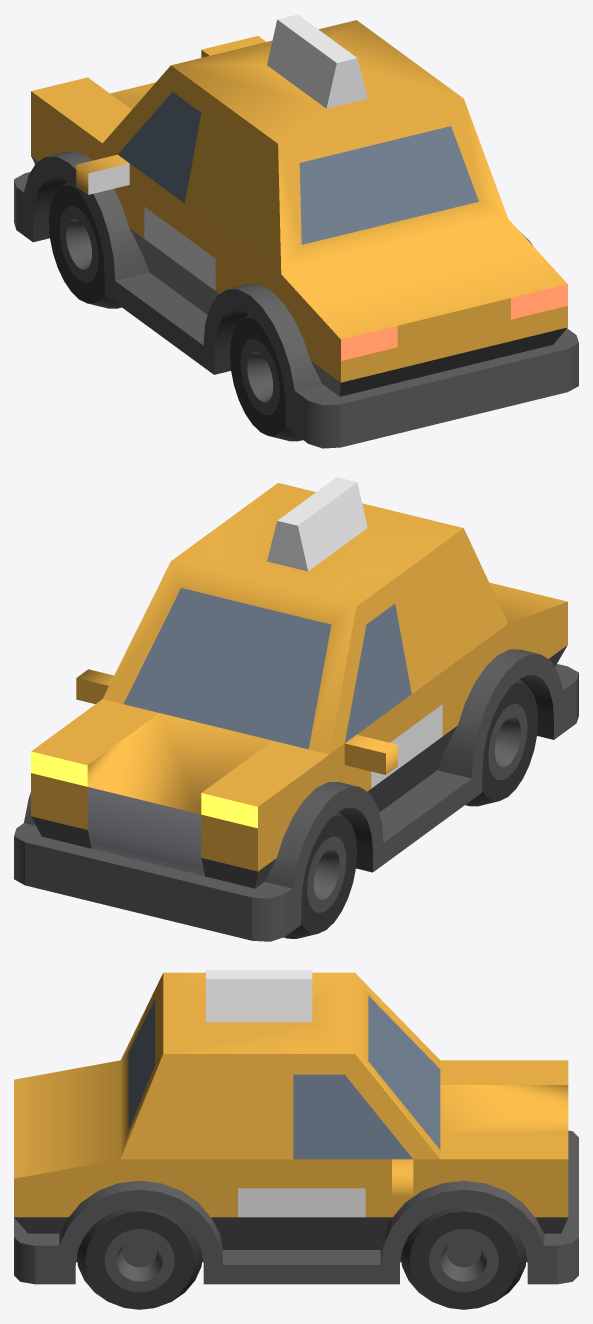
The model's file is taxi.glb.
3 renders of one model, top to bottom at view 1: azimuth 30°, elevation 25°; view 2: azimuth 150°, elevation 25°; view 3: azimuth 270°, elevation 25°, orthographic. The views are drawn at different scales.
Parts seen in each view (by area): view 1: body, wheel_backLeft, wheel_frontLeft; view 2: body, wheel_backLeft, wheel_frontLeft; view 3: body, wheel_backRight, wheel_frontRight.
Part boxes in pixels (bbox=[...]): body: bbox=[14, 14, 578, 448]; wheel_backLeft: bbox=[230, 314, 302, 441]; wheel_frontLeft: bbox=[48, 181, 121, 308]; body: bbox=[14, 477, 578, 941]; wheel_backLeft: bbox=[465, 679, 538, 806]; wheel_frontLeft: bbox=[284, 811, 356, 938]; body: bbox=[14, 970, 578, 1284]; wheel_backRight: bbox=[77, 1207, 202, 1309]; wheel_frontRight: bbox=[401, 1207, 526, 1309].
Size of the model in its own units: 1.5 by 1.5 by 2.65.
